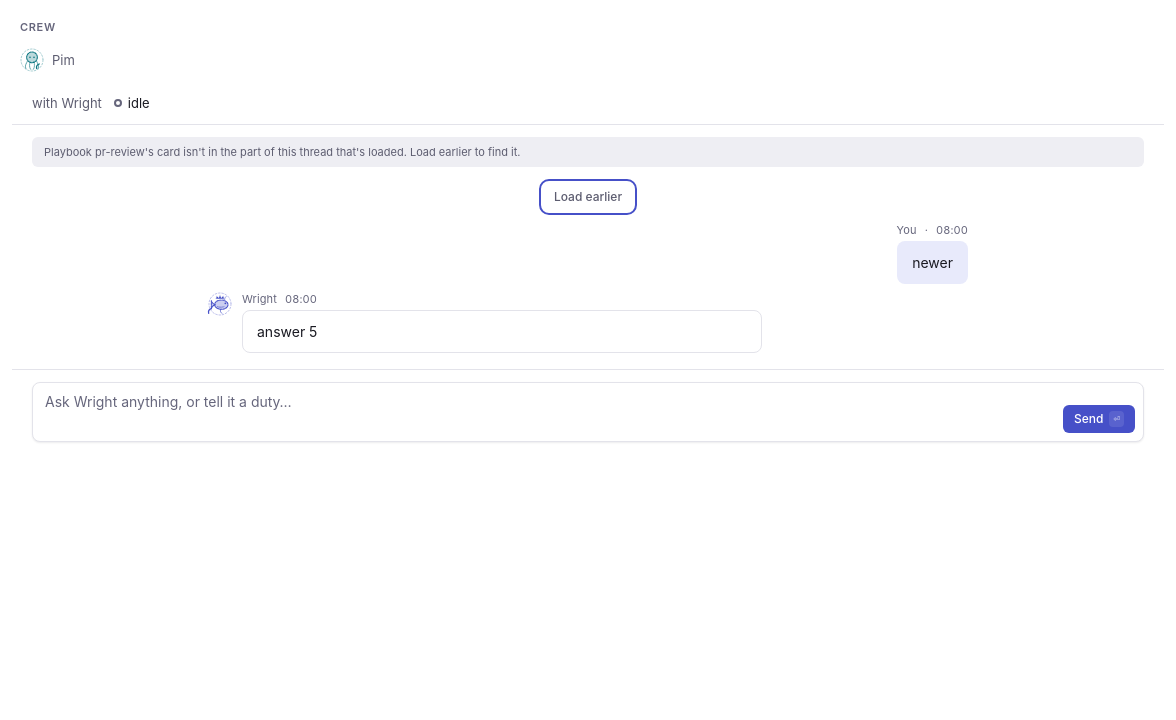
Test: #/chat?playbook=<id>: scroll to the playbook's card › a card older than the loaded pages names the playbook and points at Load earlier
Expected: the message with test id "chat-card-missing" shows "Playbook pr-review's card isn't in the part of this thread that's loaded. Load earlier to find it.", [44, 145, 520, 159]
Click the button "Load earlier": point(588, 197) [543, 183, 633, 211]
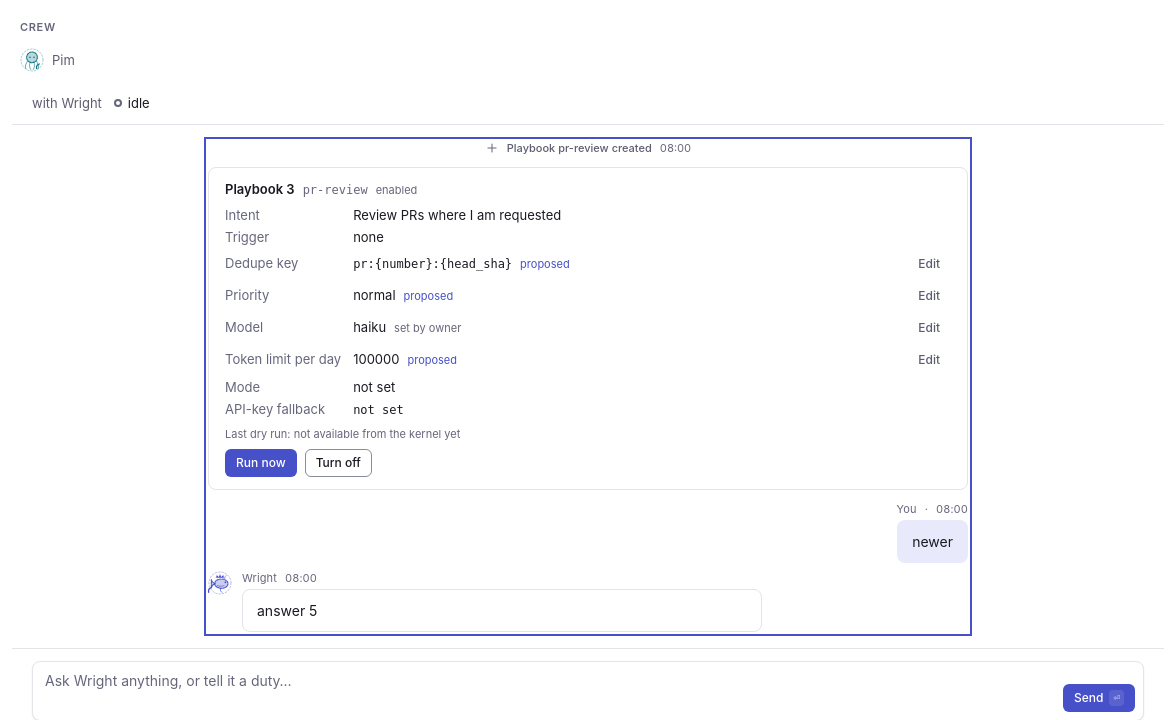
Result: the element named "Playbook pr-review" is shown at [208, 167, 968, 490]
Result: the message with test id "chat-card-missing" is gone
